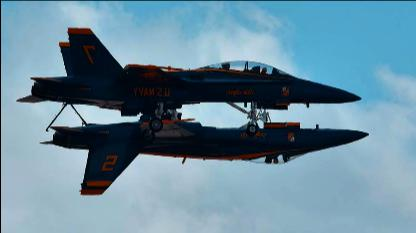F15: (16, 26, 362, 136), (39, 102, 369, 194)
